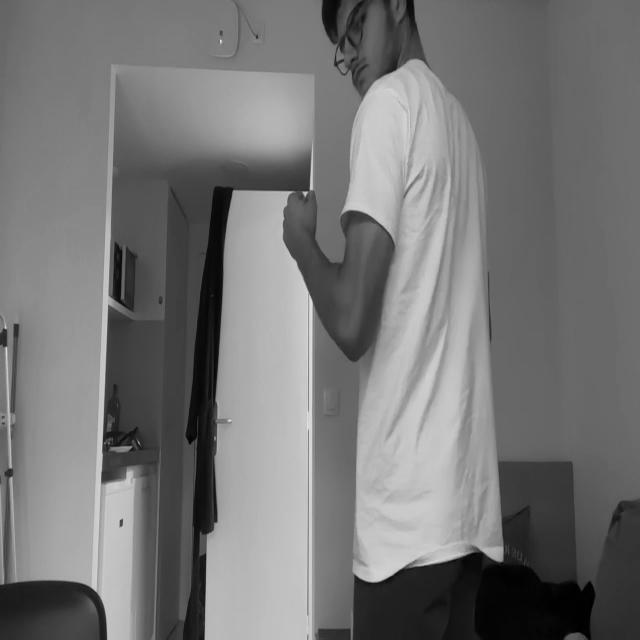elbow: (333, 271, 375, 365)
hand: (280, 191, 318, 259)
shoulder: (356, 86, 406, 185)
